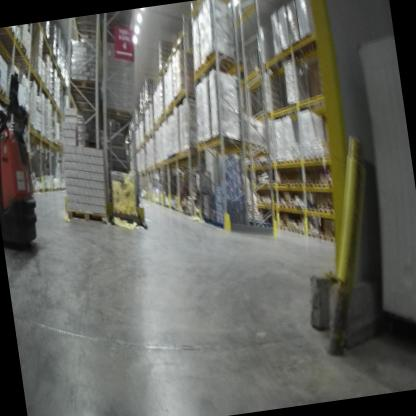pallet: (67, 200, 115, 229), (66, 69, 99, 98), (205, 43, 239, 71), (100, 102, 133, 127), (3, 51, 30, 65), (0, 44, 27, 58), (283, 157, 296, 184), (0, 36, 24, 49), (0, 26, 17, 40), (312, 153, 326, 165), (317, 230, 330, 242), (316, 205, 330, 216), (0, 83, 9, 100), (328, 208, 339, 221), (303, 154, 316, 165), (314, 183, 329, 192), (293, 156, 303, 167), (313, 176, 326, 184)
pallet_truck: (0, 62, 52, 258)
